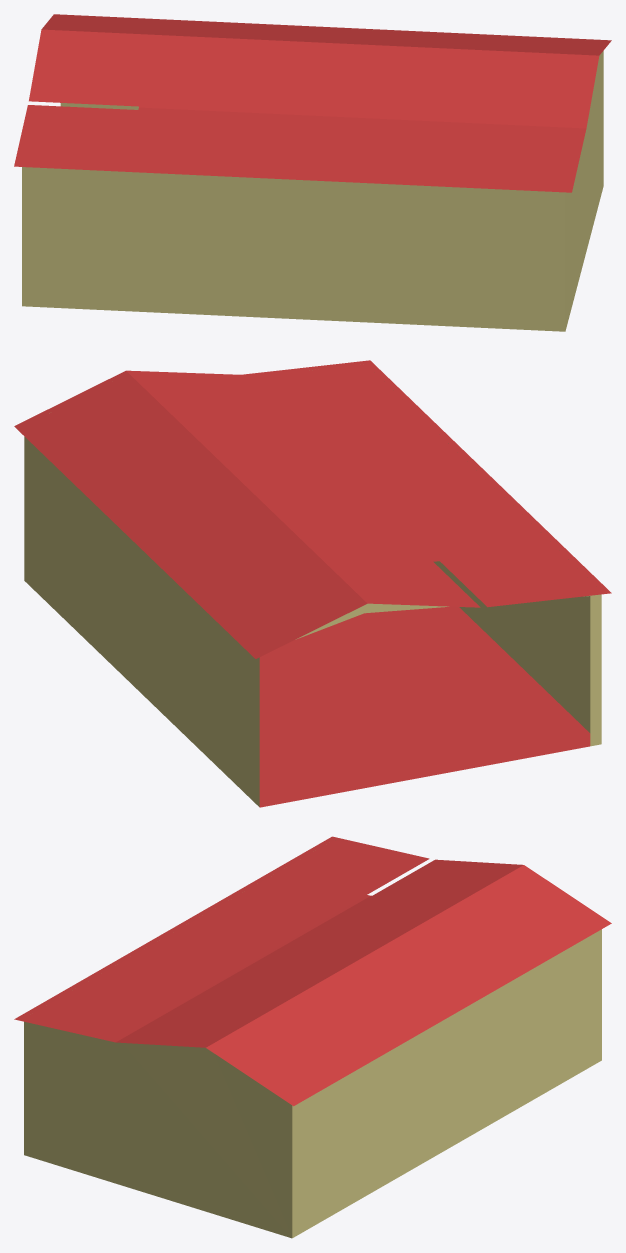
3 views of the same model, one above another, from view 1: azimuth 30°, elevation 25°; view 2: azimuth 150°, elevation 25°; view 3: azimuth 270°, elevation 25° (orthographic). The views are drawn at different scales.
Size of the model in its own units: 22.56 by 21.13 by 6.53.
